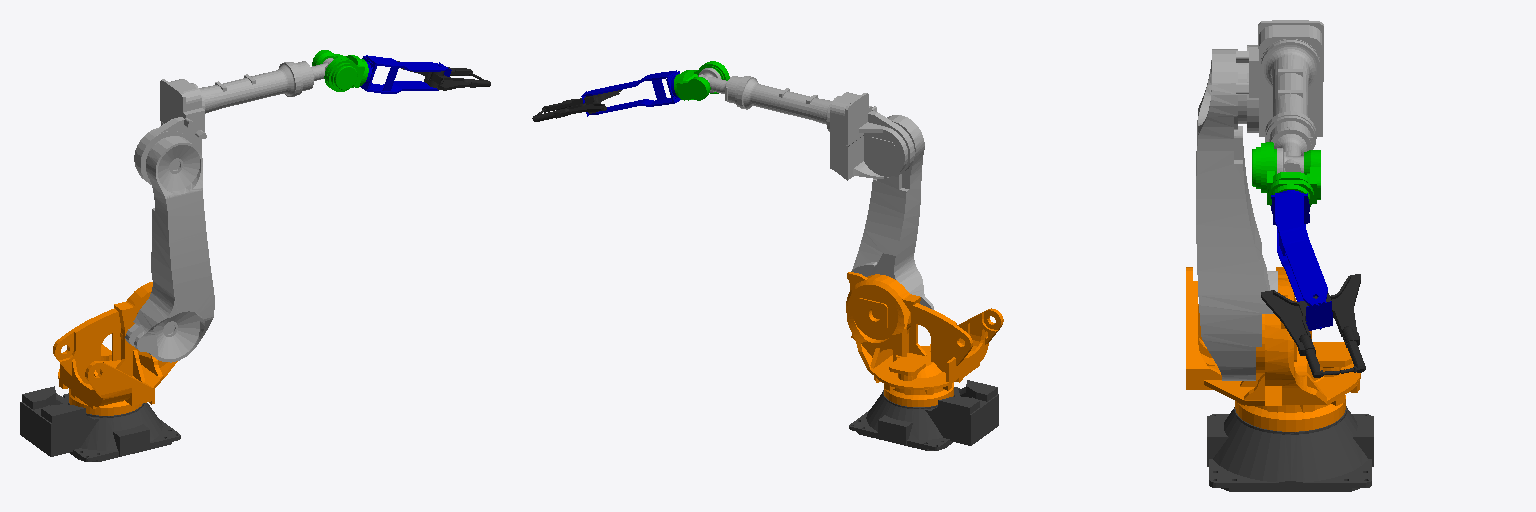
URDF robot description (hs):
<robot
  name="hs">
  <link
    name="base_link">
    <inertial>
      <origin
        xyz="-0.0871486926057311 -7.62191210294886E-10 0.106131187132797"
        rpy="0 0 0" />
      <mass
        value="82.6526178816444" />
      <inertia
        ixx="2.35776614427651"
        ixy="1.61327999063812E-08"
        ixz="0.36126793919877"
        iyy="4.10820484942903"
        iyz="5.62843716921592E-09"
        izz="5.67387864163998" />
    </inertial>
    <visual>
      <origin
        xyz="0 0 0"
        rpy="0 0 0" />
      <geometry>
        <mesh
          filename="package://hs/meshes/base_link.STL" />
      </geometry>
      <material
        name="">
        <color
          rgba="0.3 0.3 0.3 1.0" />
      </material>
    </visual>
    <collision>
      <origin
        xyz="0 0 0"
        rpy="0 0 0" />
      <geometry>
        <mesh
          filename="package://hs/meshes/base_link.STL" />
      </geometry>
    </collision>
  </link>
  <link
    name="link1">
    <inertial>
      <origin
        xyz="0.0934373319698726 -0.0416099409971544 0.235744738726135"
        rpy="0 0 0" />
      <mass
        value="66.3455060440879" />
      <inertia
        ixx="3.36853968404877"
        ixy="-0.133148823497934"
        ixz="-1.23469777122548"
        iyy="5.0259997786176"
        iyz="0.264076444720231"
        izz="3.80655672111944" />
    </inertial>
    <visual>
      <origin
        xyz="0 0 0"
        rpy="0 0 0" />
      <geometry>
        <mesh
          filename="package://hs/meshes/link1.STL" />
      </geometry>
      <material
        name="">
        <color
          rgba="1.0  0.55 0.0 1.0" />
      </material>
    </visual>
    <collision>
      <origin
        xyz="0 0 0"
        rpy="0 0 0" />
      <geometry>
        <mesh
          filename="package://hs/meshes/link1.STL" />
      </geometry>
    </collision>
  </link>
  <joint
    name="joint1"
    type="revolute">
    <origin
      xyz="0 0 0.2395"
      rpy="0 0 0" />
    <parent
      link="base_link" />
    <child
      link="link1" />
    <axis
      xyz="0 0 1" />
    <limit
      lower="-1.57"
      upper="1.57"
      effort="0"
      velocity="0" />
  </joint>
  <link
    name="arm">
    <inertial>
      <origin
        xyz="0.0342114860309113 0.491041583390998 0.0886559301625082"
        rpy="0 0 0" />
      <mass
        value="72.6777177214811" />
      <inertia
        ixx="10.2294543556587"
        ixy="0.312956327293126"
        ixz="0.00566998061047"
        iyy="0.967688515152213"
        iyz="-0.54115879731114"
        izz="10.5224244502228" />
    </inertial>
    <visual>
      <origin
        xyz="0 0 0"
        rpy="0 0 0" />
      <geometry>
        <mesh
          filename="package://hs/meshes/arm.STL" />
      </geometry>
      <material
        name="">
        <color
          rgba="0.7 0.7 0.7 1.0" />
      </material>
    </visual>
    <collision>
      <origin
        xyz="0 0 0"
        rpy="0 0 0" />
      <geometry>
        <mesh
          filename="package://hs/meshes/arm.STL" />
      </geometry>
    </collision>
  </link>
  <joint
    name="arm"
    type="revolute">
    <origin
      xyz="0.312 -0.162 0.4605"
      rpy="1.5708 0 0" />
    <parent
      link="link1" />
    <child
      link="arm" />
    <axis
      xyz="0 0 -1" />
    <limit
      lower="-1.57"
      upper="1.57"
      effort="0"
      velocity="0" />
  </joint>
  <link
    name="forearm">
    <inertial>
      <origin
        xyz="-0.320165254068728 0.133940813260535 0.130478757338934"
        rpy="0 0 0" />
      <mass
        value="43.6450458214011" />
      <inertia
        ixx="1.03581513805238"
        ixy="0.968782604793789"
        ixz="0.431215218927633"
        iyy="4.44994894164493"
        iyz="-0.159498364285498"
        izz="4.94443285791071" />
    </inertial>
    <visual>
      <origin
        xyz="0 0 0"
        rpy="0 0 0" />
      <geometry>
        <mesh
          filename="package://hs/meshes/forearm.STL" />
      </geometry>
      <material
        name="">
        <color
          rgba="0.7 0.7 0.7 1.0" />
      </material>
    </visual>
    <collision>
      <origin
        xyz="0 0 0"
        rpy="0 0 0" />
      <geometry>
        <mesh
          filename="package://hs/meshes/forearm.STL" />
      </geometry>
    </collision>
  </link>
  <joint
    name="forearm"
    type="revolute">
    <origin
      xyz="0 1.1 0.002"
      rpy="3.1416 0 3.1416" />
    <parent
      link="arm" />
    <child
      link="forearm" />
    <axis
      xyz="0 0 1" />
    <limit
      lower="-1.57"
      upper="1.57"
      effort="0"
      velocity="0" />
  </joint>
  <link
    name="link2">
    <inertial>
      <origin
        xyz="-7.21130808400972E-08 -0.00565587414577723 0.126139075436966"
        rpy="0 0 0" />
      <mass
        value="2.68900660641461" />
      <inertia
        ixx="0.0227126494618306"
        ixy="-2.2084782224553E-09"
        ixz="2.07119331894108E-08"
        iyy="0.0225158793258389"
        iyz="0.00146663440898956"
        izz="0.00597907912006775" />
    </inertial>
    <visual>
      <origin
        xyz="0 0 0"
        rpy="0 0 0" />
      <geometry>
        <mesh
          filename="package://hs/meshes/link2.STL" />
      </geometry>
      <material
        name="">
        <color
          rgba="0.7 0.7 0.7 1.0" />
      </material>
    </visual>
    <collision>
      <origin
        xyz="0 0 0"
        rpy="0 0 0" />
      <geometry>
        <mesh
          filename="package://hs/meshes/link2.STL" />
      </geometry>
    </collision>
  </link>
  <joint
    name="joint2"
    type="revolute">
    <origin
      xyz="-1.045 0.23 0.164"
      rpy="1.5708 2.022E-14 -1.5708" />
    <parent
      link="forearm" />
    <child
      link="link2" />
    <axis
      xyz="0 0 1" />
    <limit
      lower="-1.57"
      upper="1.57"
      effort="0"
      velocity="0" />
  </joint>
  <link
    name="link3">
    <inertial>
      <origin
        xyz="-0.0585640005986512 0.0213154644010172 -0.0815676837982668"
        rpy="0 0 0" />
      <mass
        value="6.92575170293396" />
      <inertia
        ixx="0.0654913539629397"
        ixy="0.00991110508104457"
        ixz="-0.0117826219840337"
        iyy="0.0891142625823574"
        iyz="0.00428997820726432"
        izz="0.0563622580506046" />
    </inertial>
    <visual>
      <origin
        xyz="0 0 0"
        rpy="0 0 0" />
      <geometry>
        <mesh
          filename="package://hs/meshes/link3.STL" />
      </geometry>
      <material
        name="">
        <color
          rgba="0.0 0.8 0.0 0.5" />
      </material>
    </visual>
    <collision>
      <origin
        xyz="0 0 0"
        rpy="0 0 0" />
      <geometry>
        <mesh
          filename="package://hs/meshes/link3.STL" />
      </geometry>
    </collision>
  </link>
  <joint
    name="joint3"
    type="revolute">
    <origin
      xyz="0 -0.1015 0.205"
      rpy="1.5708 1.5708 0" />
    <parent
      link="link2" />
    <child
      link="link3" />
    <axis
      xyz="0 0 -1" />
    <limit
      lower="-1.57"
      upper="1.57"
      effort="0"
      velocity="0" />
  </joint>
  <link
    name="wrist">
    <inertial>
      <origin
        xyz="-0.00116559347464396 0.0250919937515634 0.202411869284961"
        rpy="0 0 0" />
      <mass
        value="2.67533719500479" />
      <inertia
        ixx="0.118162644762305"
        ixy="-0.000172225916106832"
        ixz="0.000898660064734299"
        iyy="0.121862189640431"
        iyz="-0.0193456589733719"
        izz="0.0178111702473912" />
    </inertial>
    <visual>
      <origin
        xyz="0 0 0"
        rpy="0 0 0" />
      <geometry>
        <mesh
          filename="package://hs/meshes/wrist.STL" />
      </geometry>
      <material
        name="">
        <color
          rgba="0.0 0.0 0.8 1.0" />
      </material>
    </visual>
    <collision>
      <origin
        xyz="0 0 0"
        rpy="0 0 0" />
      <geometry>
        <mesh
          filename="package://hs/meshes/wrist.STL" />
      </geometry>
    </collision>
  </link>
  <joint
    name="wrist"
    type="revolute">
    <origin
      xyz="-0.21519 0.078323 -0.1015"
      rpy="-1.5708 0 1.2217" />
    <parent
      link="link3" />
    <child
      link="wrist" />
    <axis
      xyz="0 0 1" />
    <limit
      lower="-1.57"
      upper="1.57"
      effort="0"
      velocity="0" />
  </joint>
  <link
    name="finger">
    <inertial>
      <origin
        xyz="-0.064223793400183 0.0998570391058852 0.0700000490710182"
        rpy="0 0 0" />
      <mass
        value="1.64765594942315" />
      <inertia
        ixx="0.00663791254821614"
        ixy="0.00635243440104672"
        ixz="-2.72912707255206E-09"
        iyy="0.0274754135047627"
        iyz="1.14457799438392E-08"
        izz="0.0324940533538699" />
    </inertial>
    <visual>
      <origin
        xyz="0 0 0"
        rpy="0 0 0" />
      <geometry>
        <mesh
          filename="package://hs/meshes/finger.STL" />
      </geometry>
      <material
        name="">
        <color
          rgba="0.2 0.2 0.2 0.8" />
      </material>
    </visual>
    <collision>
      <origin
        xyz="0 0 0"
        rpy="0 0 0" />
      <geometry>
        <mesh
          filename="package://hs/meshes/finger.STL" />
      </geometry>
    </collision>
  </link>
  <joint
    name="finger"
    type="fixed">
    <origin
      xyz="-0.074829 0.10234 0.58767"
      rpy="0 1.5708 0" />
    <parent
      link="wrist" />
    <child
      link="finger" />
    <axis
      xyz="0 0 0" />
    <limit
      lower="-1.57"
      upper="1.57"
      effort="0"
      velocity="0" />
  </joint>
  <link
    name="gripper">
    <inertial>
      <origin
        xyz="-0.0991669481529323 -0.0519657580528451 -0.0280005034359903"
        rpy="0 0 0" />
      <mass
        value="1.46428202692928" />
      <inertia
        ixx="0.00456274156555818"
        ixy="0.00420621695486331"
        ixz="-6.77092887331867E-08"
        iyy="0.023173531818319"
        iyz="7.86429287186544E-09"
        izz="0.02741536452204" />
    </inertial>
    <visual>
      <origin
        xyz="0 0 0"
        rpy="0 0 0" />
      <geometry>
        <mesh
          filename="package://hs/meshes/gripper.STL" />
      </geometry>
      <material
        name="">
        <color
          rgba="0.2 0.2 0.2 0.8" />
      </material>
    </visual>
    <collision>
      <origin
        xyz="0 0 0"
        rpy="0 0 0" />
      <geometry>
        <mesh
          filename="package://hs/meshes/gripper.STL" />
      </geometry>
    </collision>
  </link>
  <joint
    name="gripper"
    type="revolute">
    <origin
      xyz="0 0 0.098"
      rpy="0 0 1.7347E-18" />
    <parent
      link="finger" />
    <child
      link="gripper" />
    <axis
      xyz="0 0 -1" />
    <limit
      lower="-1.57"
      upper="1.57"
      effort="0"
      velocity="0" />
  </joint>
</robot>

--- Facts derived from the render (not from the file) ---
3 views of the same robot in one strip: view 1: azimuth 30°, elevation 25°; view 2: azimuth 150°, elevation 25°; view 3: azimuth 270°, elevation 25° (orthographic).
Robot: hs — 9 links, 8 joints (7 revolute, 1 fixed); root link base_link; default pose: every joint at zero.
Links seen in each view (by area): view 1: arm, link1, base_link, forearm, wrist, link3, gripper; view 2: link1, forearm, arm, base_link, wrist, link3, finger; view 3: arm, link1, base_link, forearm, wrist, link3, gripper, finger, link2.
Boxes of the visible links, x1=… form: arm: x1=125, y1=136, x2=214, y2=362; link1: x1=53, y1=282, x2=177, y2=415; base_link: x1=20, y1=386, x2=180, y2=461; forearm: x1=134, y1=62, x2=310, y2=184; wrist: x1=360, y1=55, x2=451, y2=93; link3: x1=312, y1=50, x2=368, y2=91; gripper: x1=429, y1=72, x2=490, y2=90; link1: x1=846, y1=272, x2=1003, y2=406; forearm: x1=728, y1=76, x2=914, y2=180; arm: x1=851, y1=115, x2=933, y2=309; base_link: x1=849, y1=380, x2=998, y2=450; wrist: x1=581, y1=70, x2=680, y2=116; link3: x1=674, y1=61, x2=729, y2=100; finger: x1=532, y1=95, x2=606, y2=121; arm: x1=1196, y1=49, x2=1277, y2=380; link1: x1=1186, y1=267, x2=1360, y2=431; base_link: x1=1207, y1=406, x2=1373, y2=491; forearm: x1=1236, y1=20, x2=1323, y2=148; wrist: x1=1271, y1=190, x2=1332, y2=330; link3: x1=1252, y1=142, x2=1320, y2=206; gripper: x1=1261, y1=290, x2=1339, y2=377; finger: x1=1307, y1=274, x2=1365, y2=373; link2: x1=1270, y1=127, x2=1312, y2=173.
Size in the robot's own frame: 3.19 by 0.769 by 2.17 metres.
9 mesh visuals loaded from 9 distinct referenced files (9 binary STL).